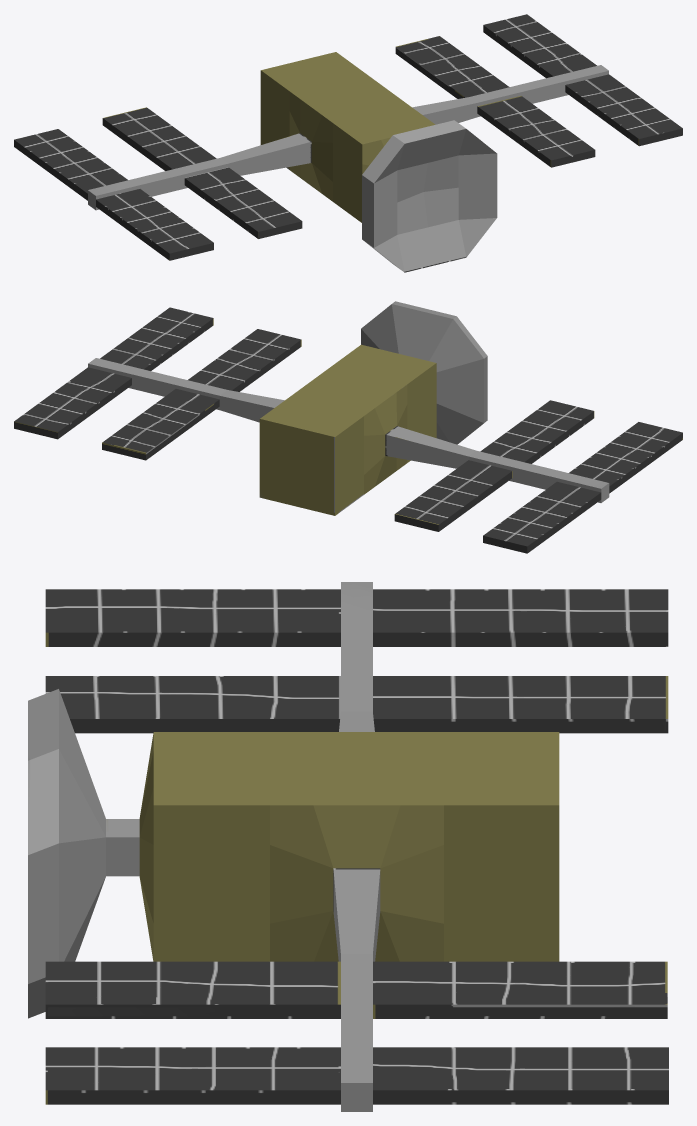
The model's file is satelite.fbx.
3 views of the same model, one above another, from view 1: azimuth 30°, elevation 25°; view 2: azimuth 150°, elevation 25°; view 3: azimuth 270°, elevation 25° (orthographic). The views are drawn at different scales.
Parts seen in each view (by area): view 1: Cube; view 2: Cube; view 3: Cube.
Part boxes in pixels (left/top/right/bottom): Cube: left=14, top=14, right=682, bottom=272; Cube: left=14, top=301, right=682, bottom=553; Cube: left=28, top=582, right=668, bottom=1111.
Size of the model in its own units: 201 by 49.63 by 109.
1 material, 1 textured.
